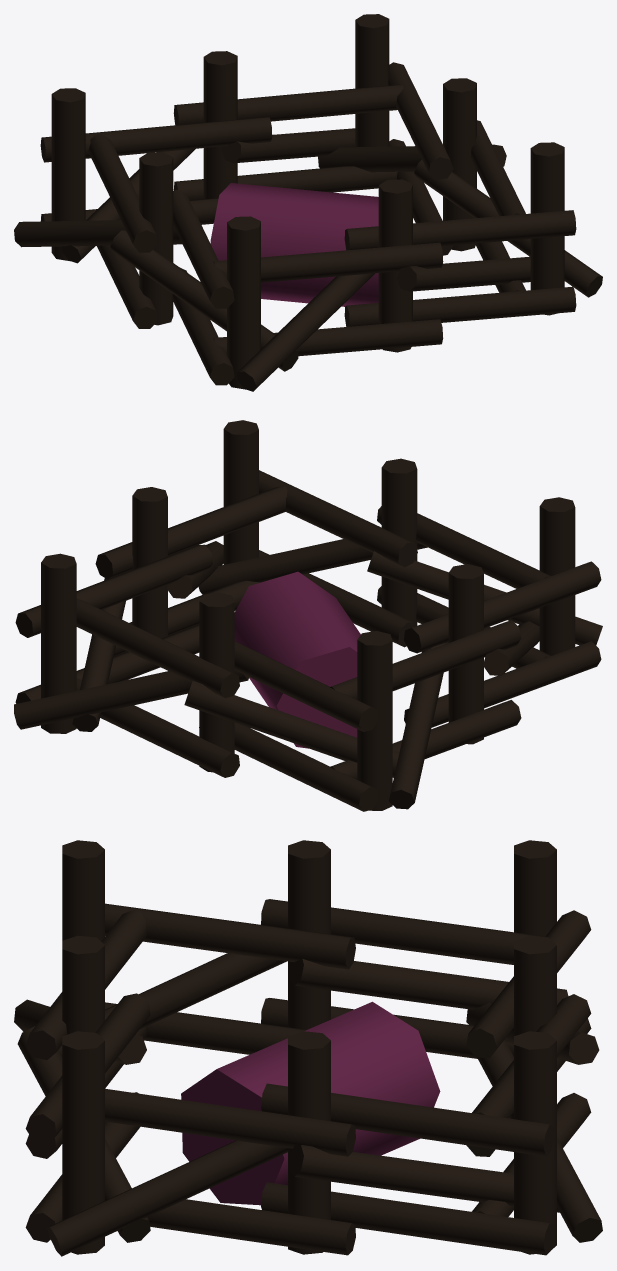
File: PigSty.fbx
The picture shows the model from 3 angles, top to bottom: view 1: azimuth 30°, elevation 25°; view 2: azimuth 150°, elevation 25°; view 3: azimuth 270°, elevation 25°; orthographic projection. The views are drawn at different scales.
Parts seen in each view (by area): view 1: PigSty; view 2: PigSty; view 3: PigSty.
Part boxes in pixels (x1=…): PigSty: x1=14, y1=14, x2=602, y2=391; PigSty: x1=14, y1=420, x2=602, y2=811; PigSty: x1=14, y1=840, x2=602, y2=1256.
Size of the model in its own units: 2.61 by 1.12 by 2.61.
